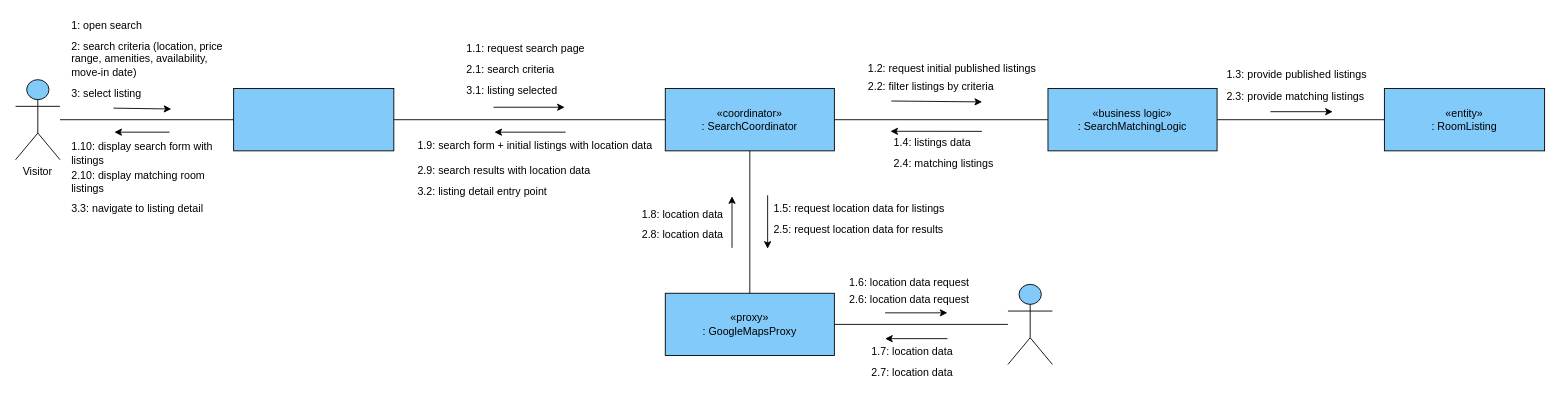
This 1560x411 diagram has some shape labels left out. Here are the shapes that lost their labels. From the top down, the centre of each, then its label:
At [313,119]: "«user interaction» : VisitorUI".
At [1029,323]: "Google Maps".
